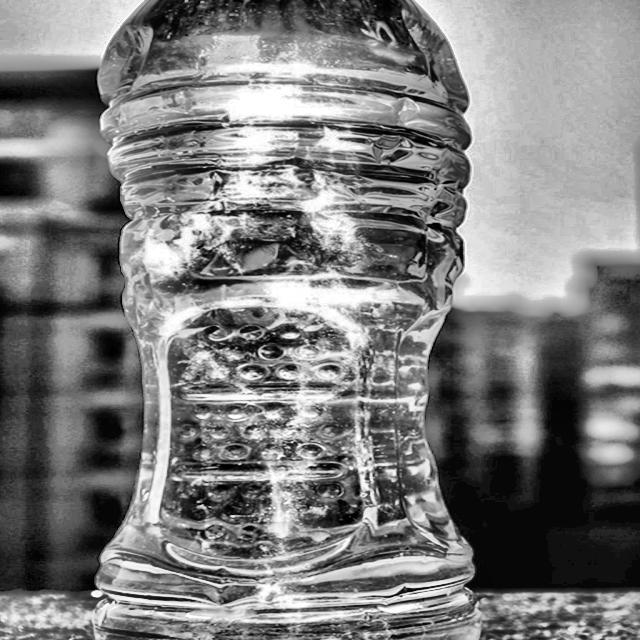bottle: (77, 0, 496, 640)
